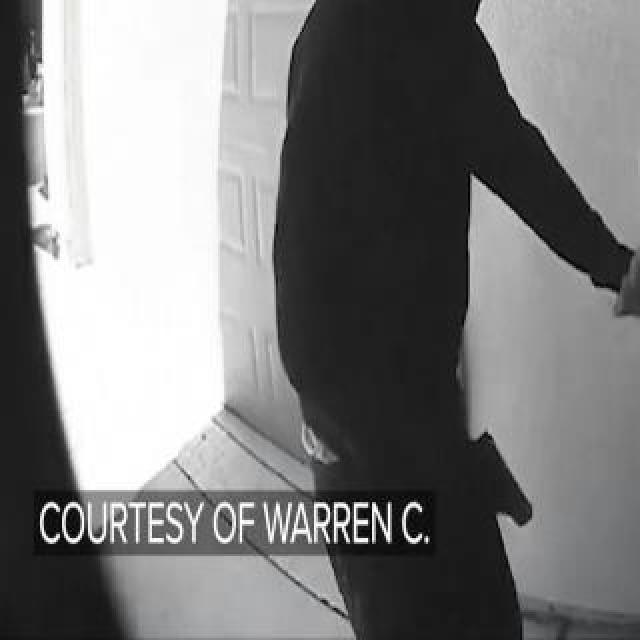Guns: (458, 426, 553, 540)
